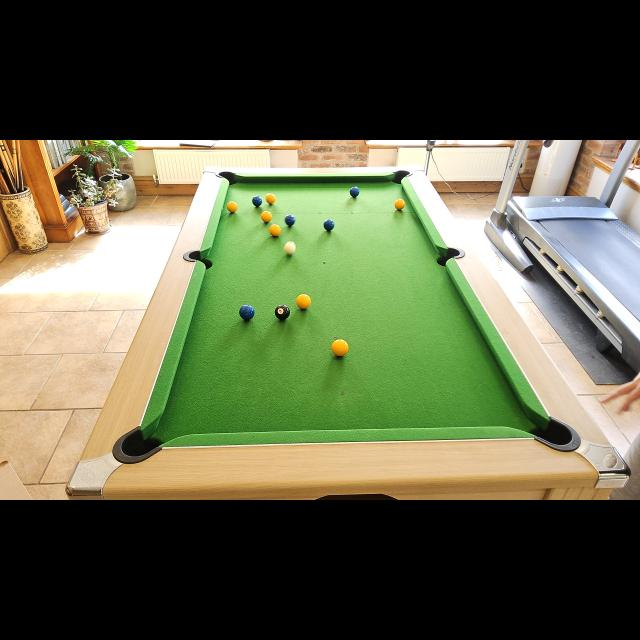Ball: (332, 339, 348, 356), (274, 304, 290, 320), (296, 294, 312, 310), (240, 305, 254, 321), (269, 225, 281, 238), (284, 214, 296, 226), (284, 242, 296, 254), (395, 198, 405, 210), (226, 202, 238, 212), (266, 192, 276, 204), (350, 186, 360, 198), (252, 196, 262, 207), (324, 220, 334, 230), (262, 212, 272, 222)
